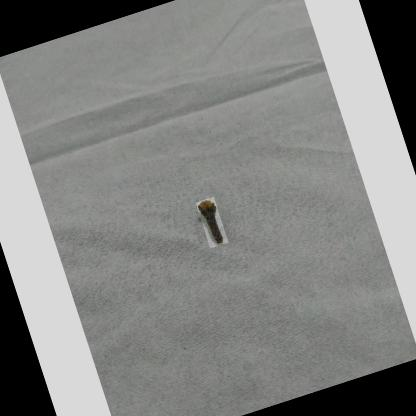sedang: (199, 200, 224, 245)
